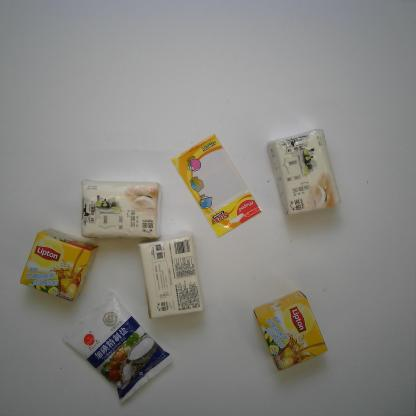Instant Drink: (19, 226, 99, 306), (253, 290, 330, 373)
Seasoner: (53, 284, 177, 402)
Stationery: (171, 132, 264, 240)
Tissue: (263, 127, 342, 218), (137, 230, 204, 322), (79, 176, 164, 242)
